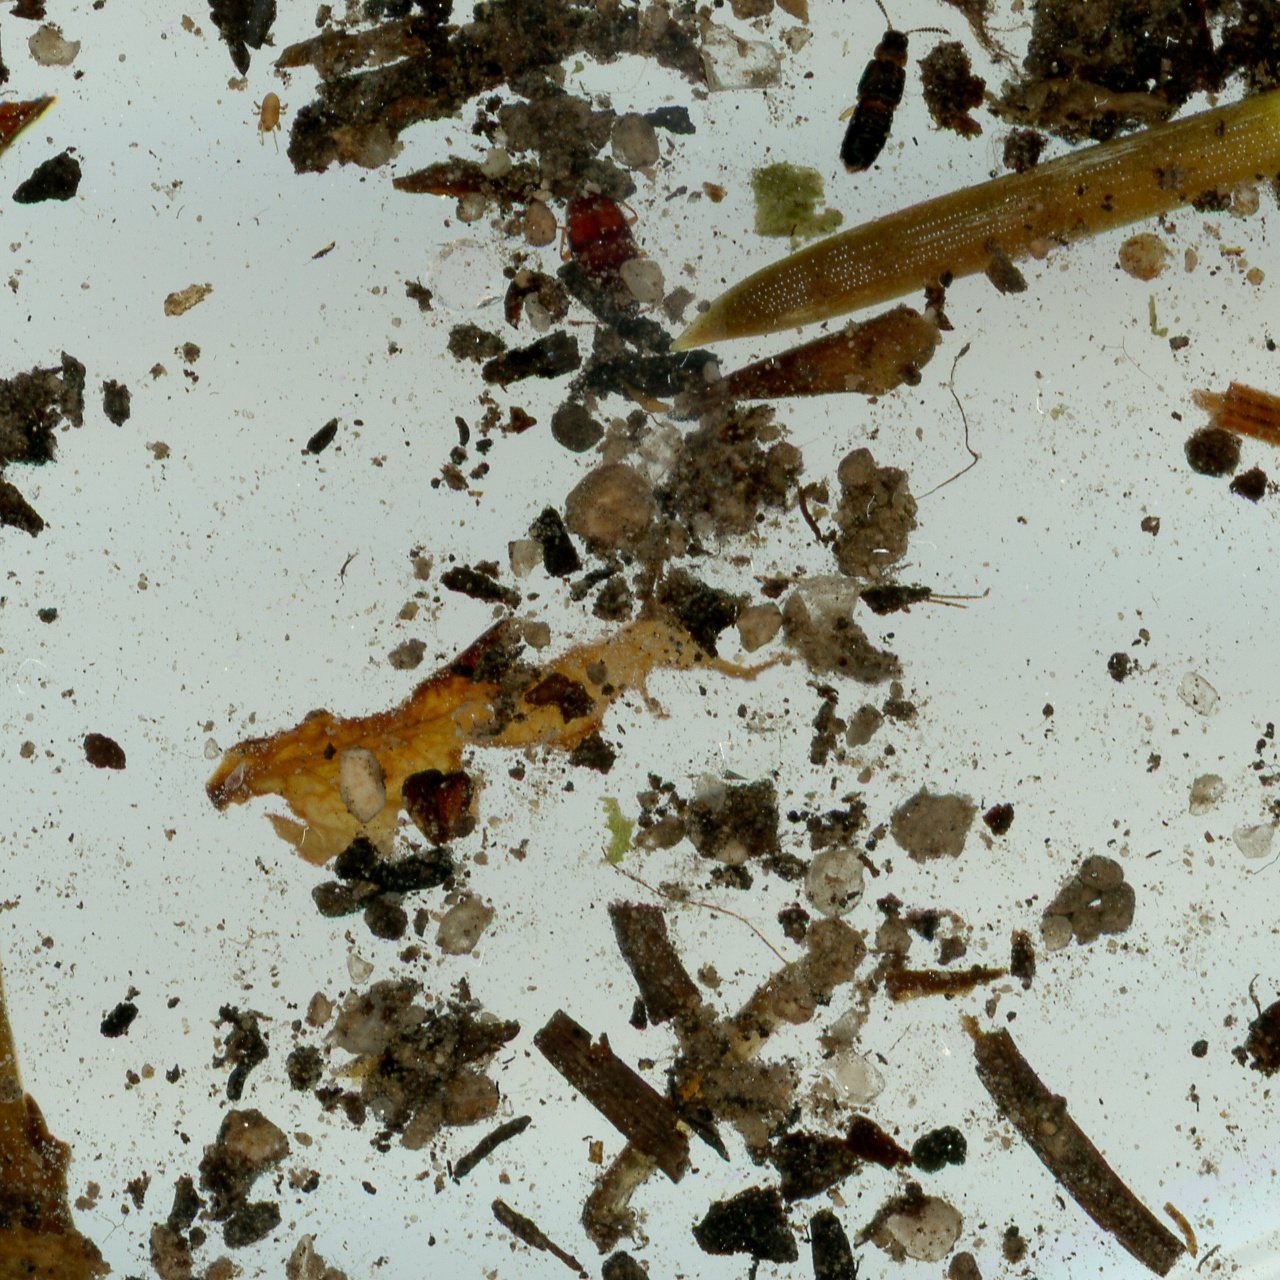arthropod: (816, 0, 961, 195), (538, 174, 663, 338), (836, 0, 944, 175), (560, 179, 656, 320), (863, 575, 993, 617), (504, 266, 569, 329), (251, 87, 289, 156), (251, 91, 289, 157)
